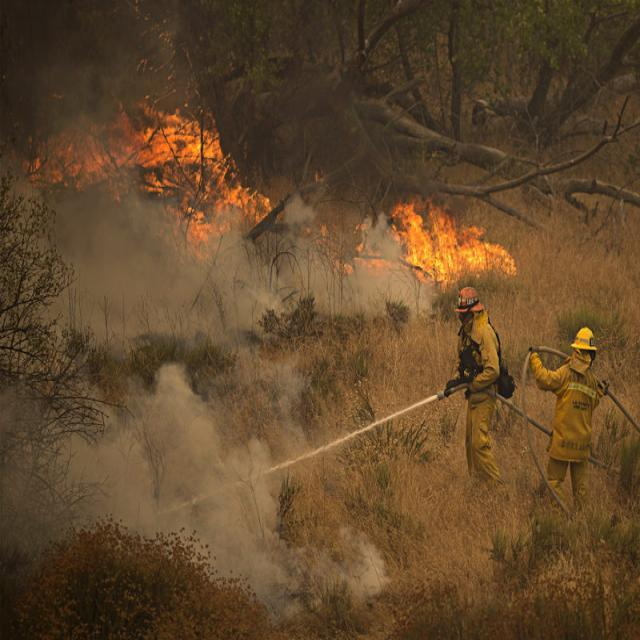Fire: (156, 114, 268, 221), (401, 204, 516, 282)
Smoke: (0, 372, 270, 542), (64, 228, 398, 329)
